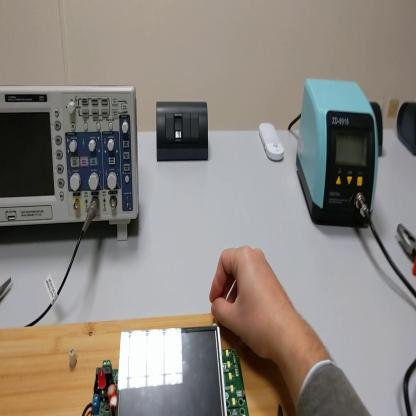hand: (210, 247, 292, 362)
low voltage board: (84, 318, 249, 413)
oscilloscope: (2, 87, 138, 242)
oscilloscope probe tip: (2, 277, 12, 302)
pliers: (395, 221, 415, 277)
socket: (397, 103, 416, 157), (370, 100, 382, 156)
welder station: (298, 80, 378, 229)
working area: (2, 314, 295, 416)
